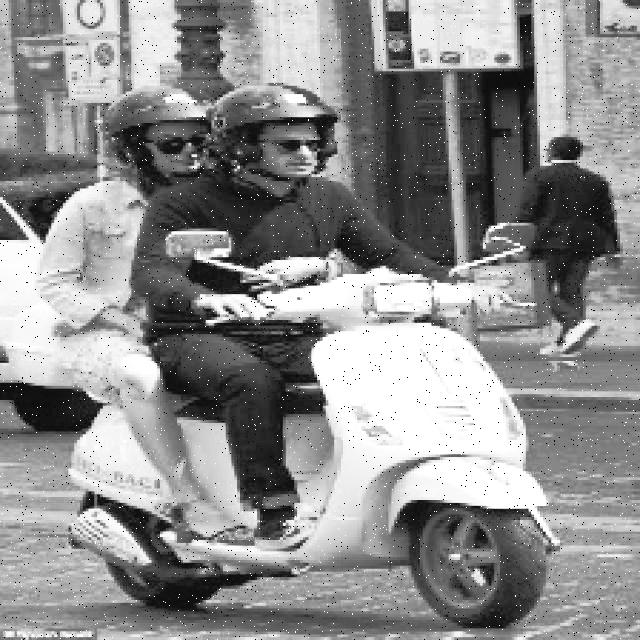Bike: (59, 295, 559, 633)
